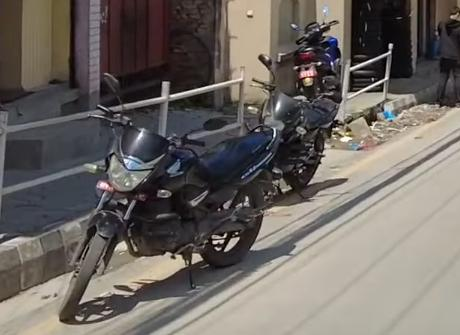bike: (52, 69, 280, 325), (248, 52, 342, 197)
